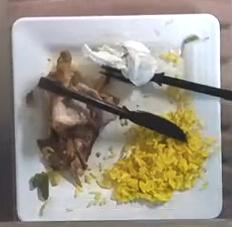chicken: (37, 96, 102, 186)
rice: (102, 87, 213, 202)
